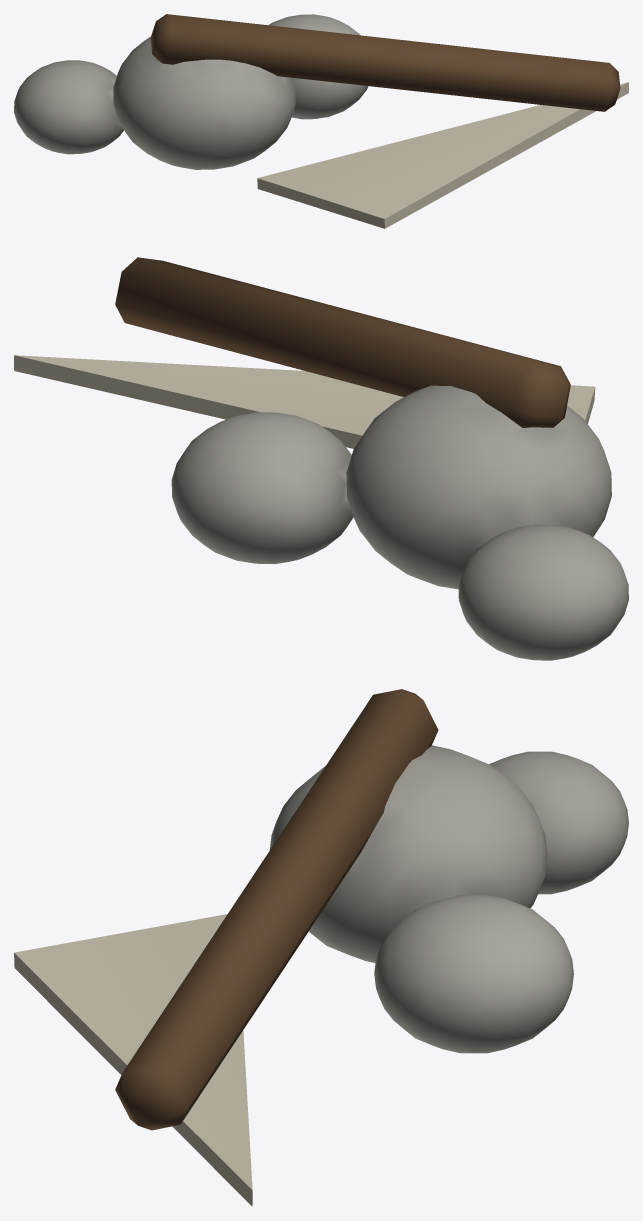
File: kite_pennant_c.glb
3 renders of one model, top to bottom at view 1: azimuth 30°, elevation 25°; view 2: azimuth 150°, elevation 25°; view 3: azimuth 270°, elevation 25°, orthographic. The views are drawn at different scales.
Visible parts, largest first — view 1: Surface; view 2: Surface; view 3: Surface.
Boxes of the visible parts, <box> form: Surface: <box>14,14,628,228</box>; Surface: <box>14,257,628,660</box>; Surface: <box>14,689,628,1206</box>.
Size of the model in its own units: 2.04 by 0.5922 by 1.4.
